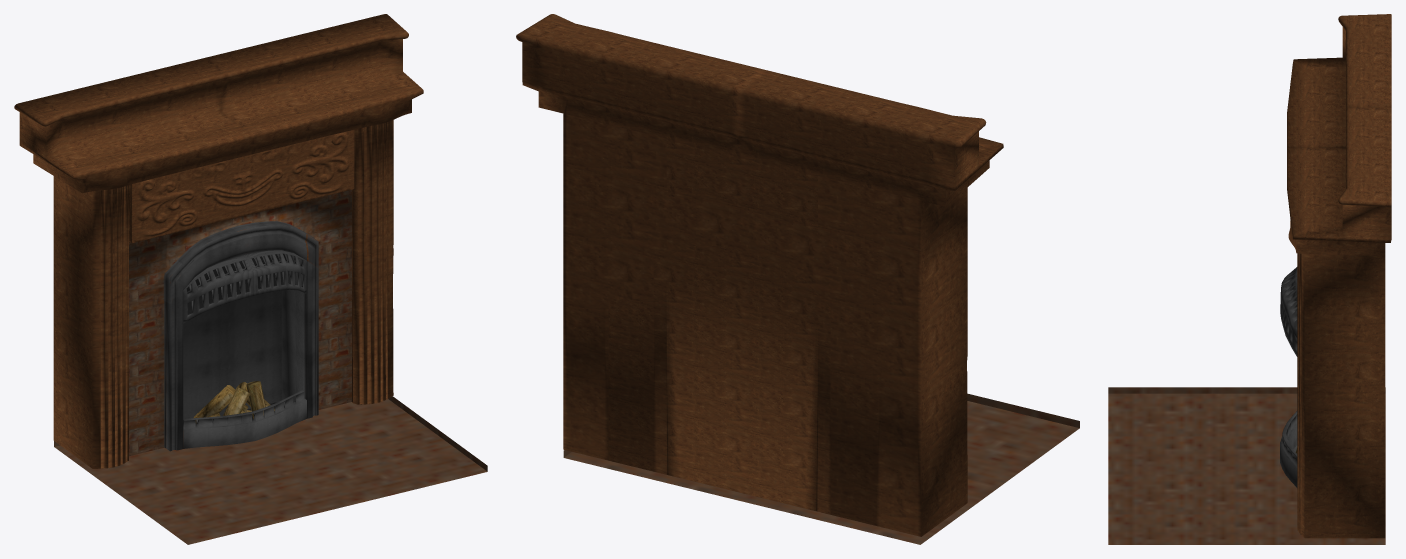
File: Fireplace.obj
3 views of the same model, side by side, from view 1: azimuth 30°, elevation 25°; view 2: azimuth 150°, elevation 25°; view 3: azimuth 270°, elevation 25° (orthographic). The views are drawn at different scales.
Visible parts, largest first — view 1: Fireplace_Main, Ground, Fireplace_WoodArt, Upper_Enclosure, Woods; view 2: Fireplace_Main, Ground; view 3: Fireplace_Main, Ground, Upper_Enclosure.
Part boxes in pixels (bbox=[...]): Fireplace_Main: bbox=[14, 14, 423, 468]; Ground: bbox=[54, 396, 487, 544]; Fireplace_WoodArt: bbox=[129, 130, 354, 243]; Upper_Enclosure: bbox=[183, 250, 306, 323]; Woods: bbox=[193, 381, 274, 423]; Fireplace_Main: bbox=[516, 14, 1003, 536]; Ground: bbox=[563, 393, 1079, 544]; Fireplace_Main: bbox=[1280, 14, 1391, 538]; Ground: bbox=[1108, 387, 1385, 544]; Upper_Enclosure: bbox=[1280, 267, 1297, 356].
Size of the model in its own units: 2.01 by 1.79 by 1.27.
Materials: 1 (1 with a texture image).
